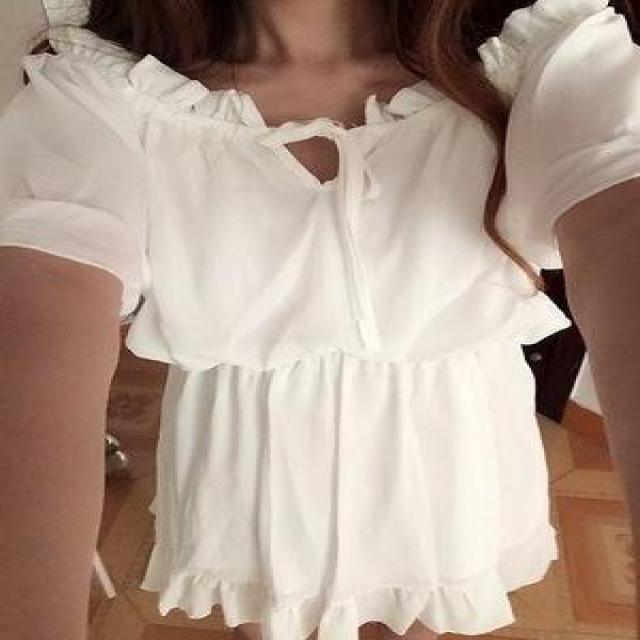short sleeve dress: (2, 2, 638, 629)
